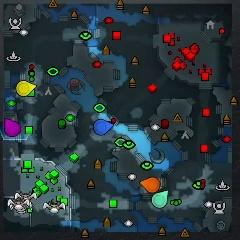p1: (94, 119, 113, 136)
p2: (152, 190, 169, 208)
p3: (4, 119, 20, 137)
p4: (16, 81, 36, 97)
p5: (140, 177, 160, 193)
